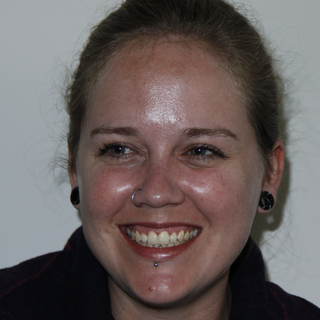eye: (90, 138, 147, 167), (175, 141, 232, 168)
